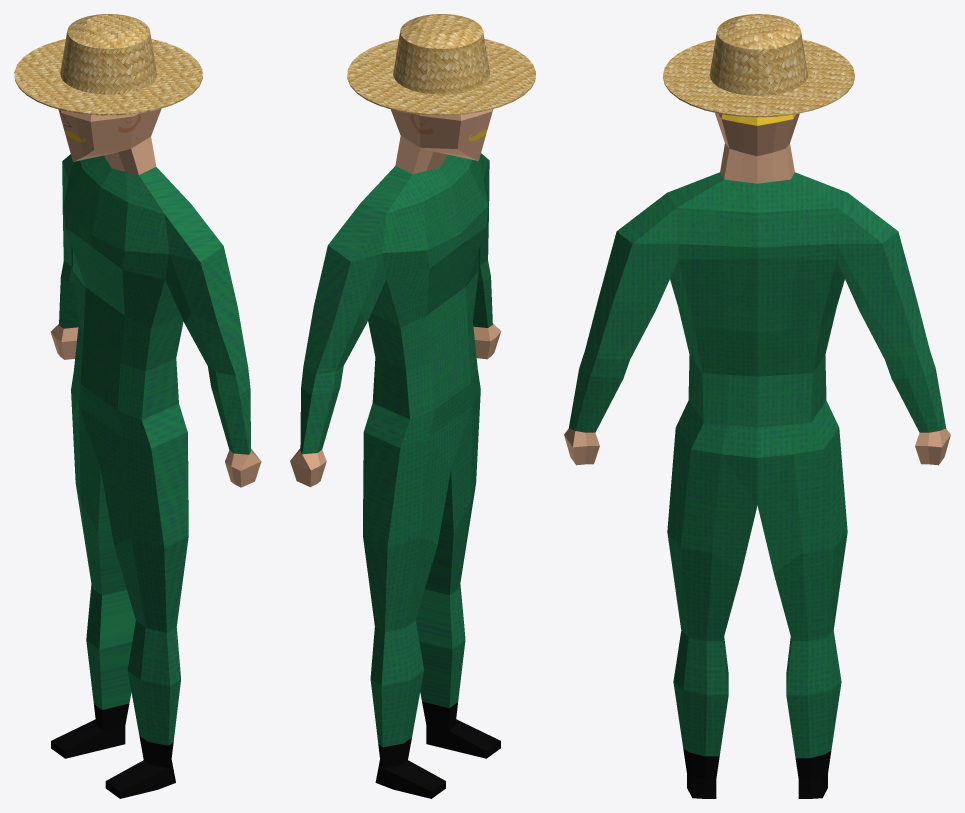
File: Colono - Loiro.fbx
3 renders of one model, left to right at view 1: azimuth 30°, elevation 25°; view 2: azimuth 150°, elevation 25°; view 3: azimuth 270°, elevation 25°, orthographic.
Visible parts, largest first — view 1: colono, chapeuDePalha; view 2: colono, chapeuDePalha; view 3: colono, chapeuDePalha.
Part boxes in pixels (x1=…): colono: x1=50, y1=108, x2=261, y2=798; chapeuDePalha: x1=14, y1=14, x2=202, y2=115; colono: x1=290, y1=109, x2=501, y2=798; chapeuDePalha: x1=347, y1=14, x2=535, y2=115; colono: x1=564, y1=113, x2=950, y2=798; chapeuDePalha: x1=663, y1=14, x2=854, y2=117.
Bounding box in the file's own units: 92.04 × 399 × 185.
